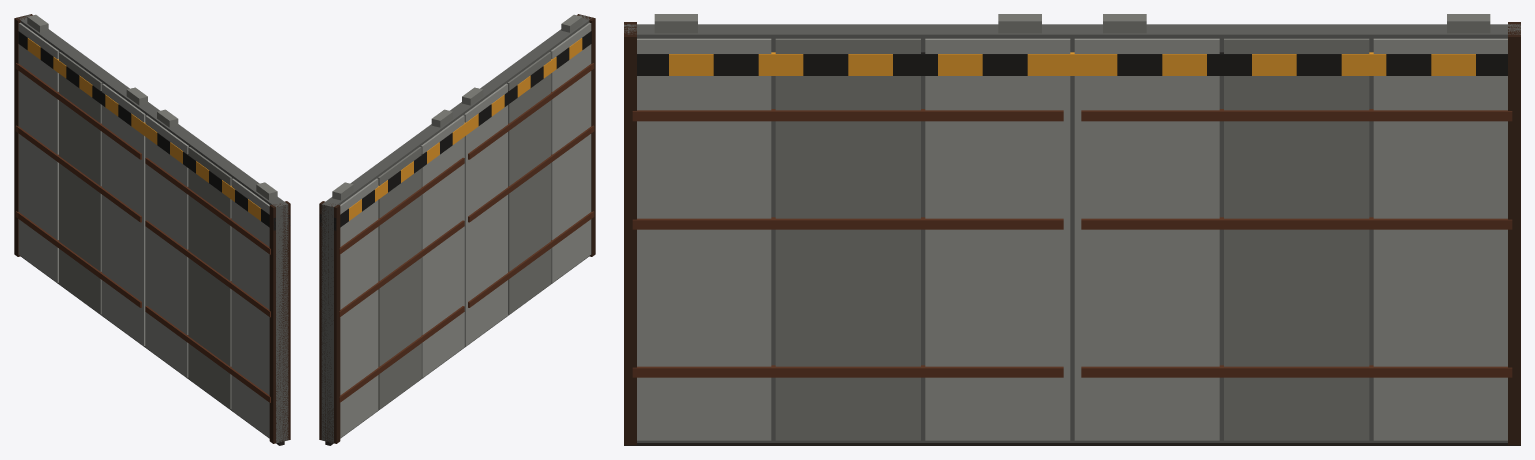
Rendered from fort_outpost_shut.glb.
3 renders of one model, left to right at view 1: azimuth 30°, elevation 25°; view 2: azimuth 150°, elevation 25°; view 3: azimuth 270°, elevation 25°, orthographic. The views are drawn at different scales.
Visible parts, largest first — view 1: fort_outpost_shut; view 2: fort_outpost_shut; view 3: fort_outpost_shut.
Part boxes in pixels (<box>): fort_outpost_shut: <box>14,14,290,445</box>; fort_outpost_shut: <box>319,14,595,445</box>; fort_outpost_shut: <box>624,14,1520,445</box>.
Size of the model in its own units: 0.88 by 10.8 by 20.6.
